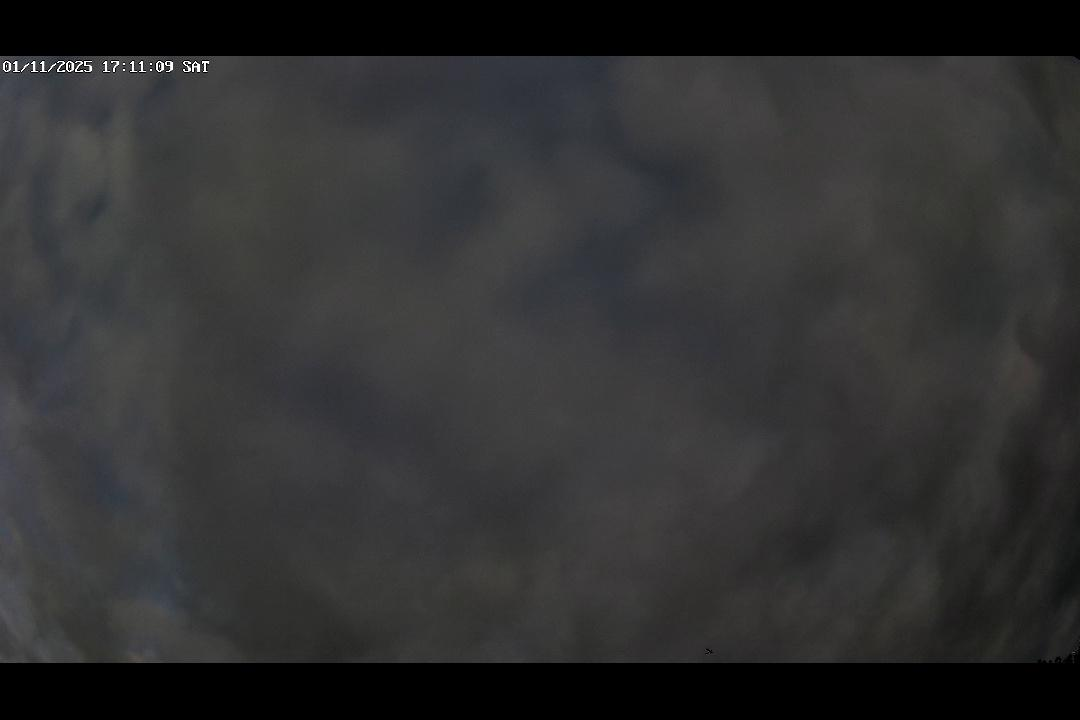Plane: (700, 644, 716, 657)
